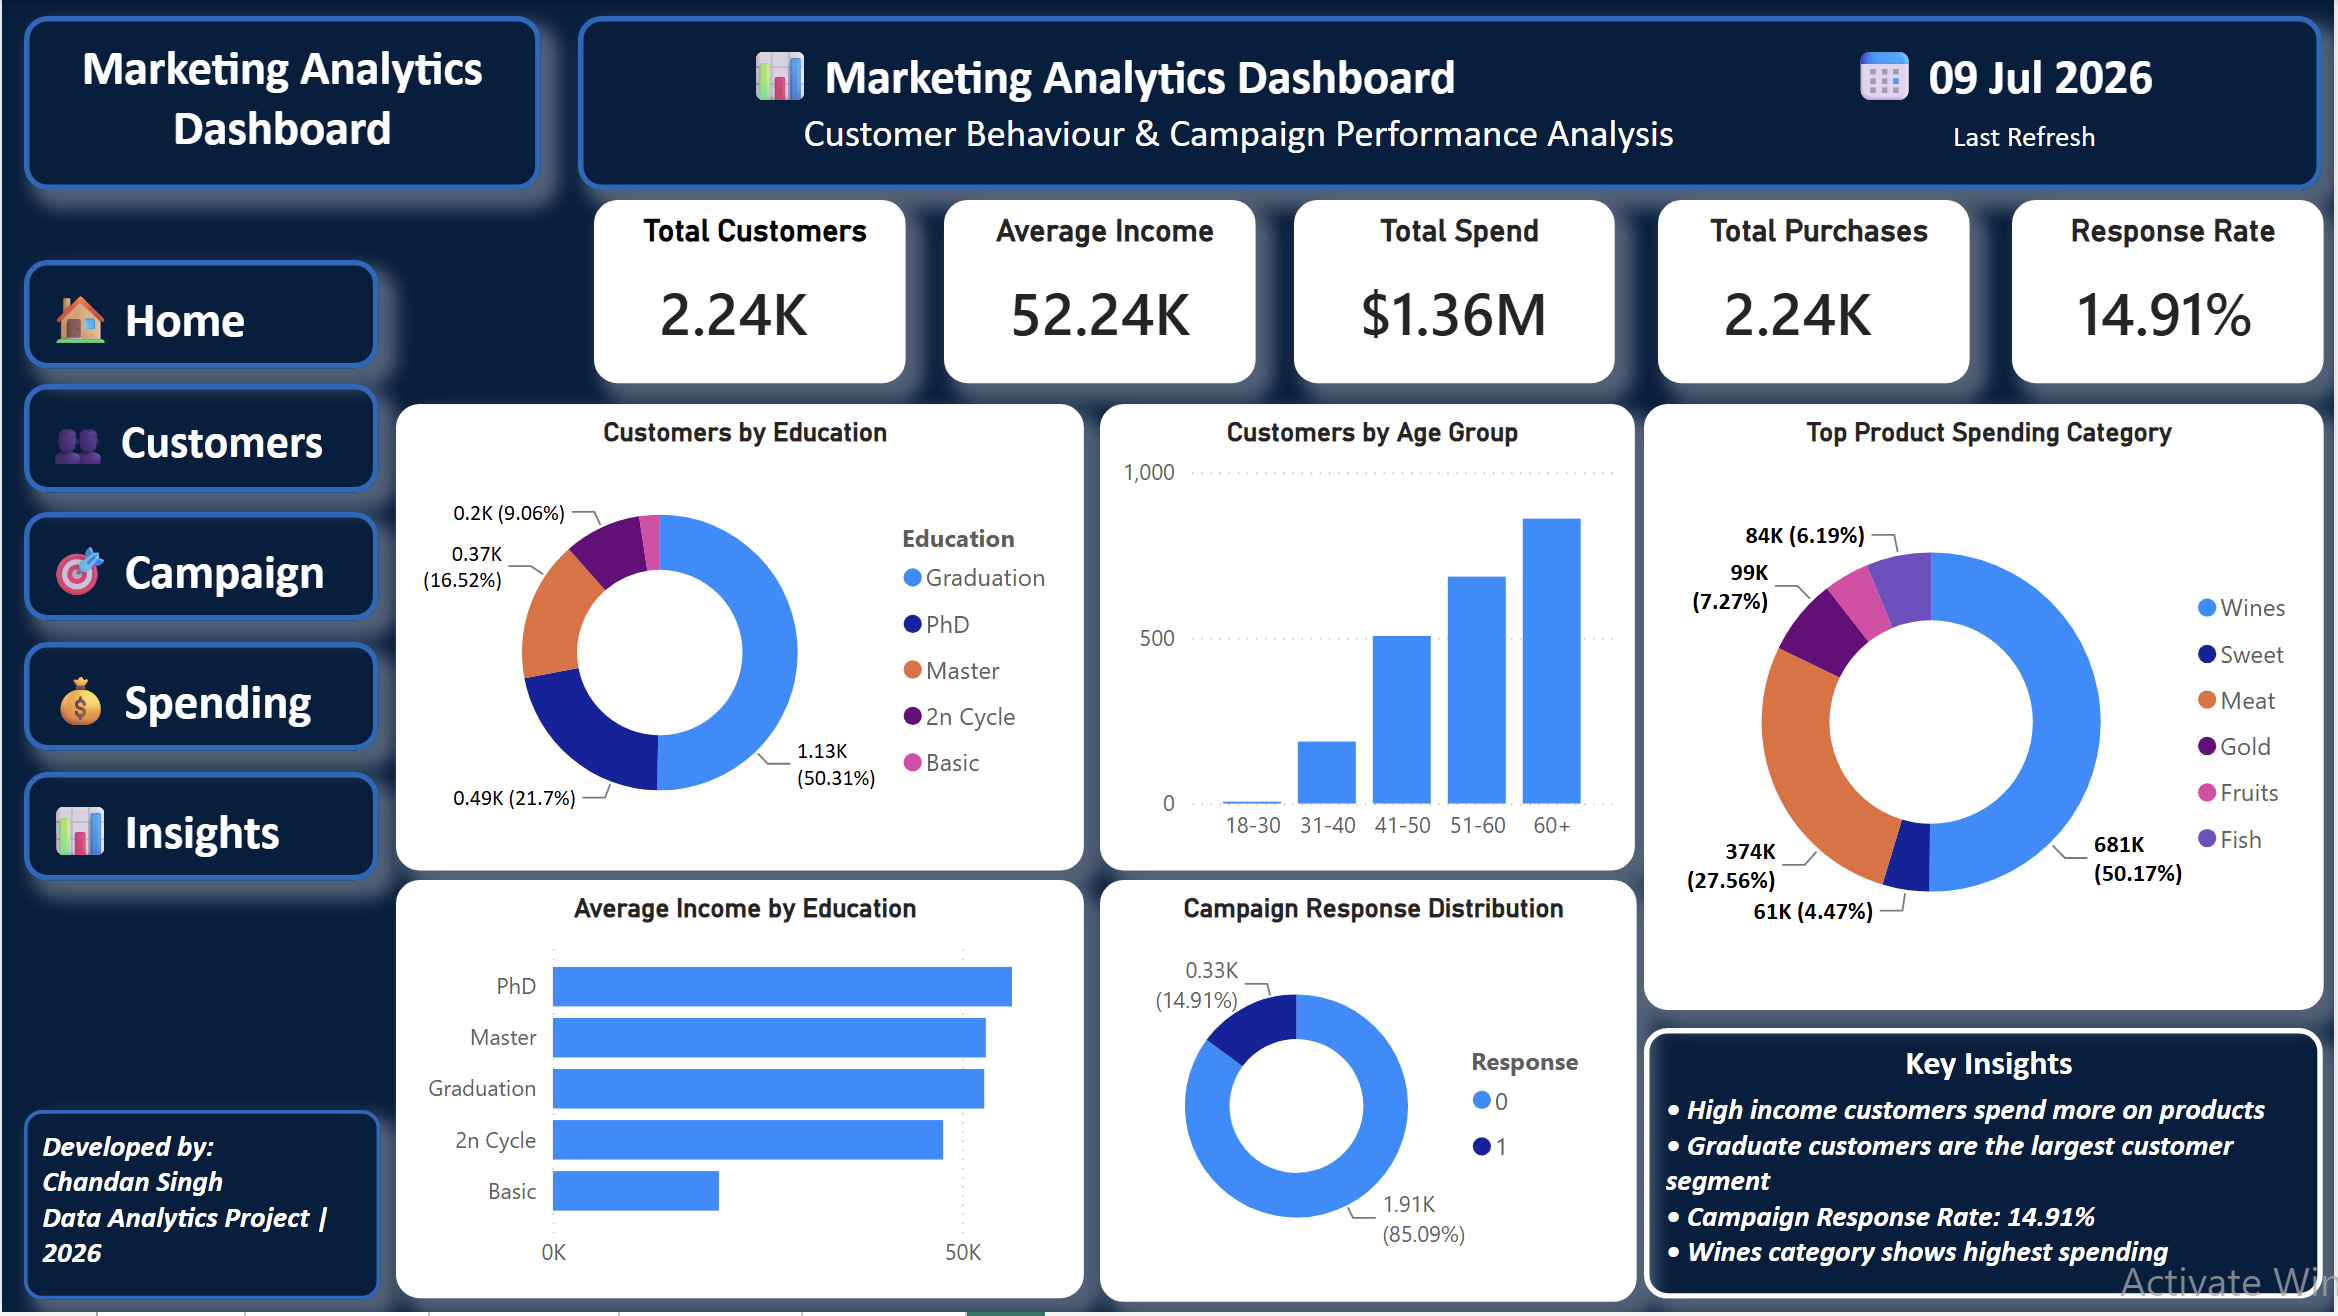

The dashboard page shown, as its layout file describes it:
{"tool":"powerbi","page":{"name":"Home","canvas":[1280,720],"ordinal":0},"visuals":[{"type":"cardVisual","title":"Total Customers","fields":{"Data":["CountNonNull(marketing_campaign.Dt_Customer)"]},"box":[324.3,110.2,171,100.3],"z":0},{"type":"cardVisual","title":"Average Income","fields":{"Data":["Avg(marketing_campaign.Income)"]},"box":[517.4,110.2,171,100.3],"z":1000},{"type":"cardVisual","title":"Total Spend","fields":{"Data":["Sum(marketing_campaign.Total_Spend)"]},"box":[709.3,110.2,176,100.3],"z":2000},{"type":"cardVisual","title":"Total Purchases","fields":{"Data":["CountNonNull(marketing_campaign.Total_Purchases)"]},"box":[908.6,110.2,171,100.3],"z":3000},{"type":"cardVisual","title":"Response Rate","fields":{"Data":["marketing_campaign.Response Rate %"]},"box":[1103,110.2,171,100.3],"z":4000},{"type":"donutChart","title":"Campaign Response Distribution","fields":{"Category":["marketing_campaign.Response"],"Y":["CountNonNull(marketing_campaign.ID)"]},"box":[602.9,482.8,294.6,231.5],"z":5000},{"type":"donutChart","title":"Customers by Education","fields":{"Category":["marketing_campaign.Education"],"Y":["CountNonNull(marketing_campaign.ID)"]},"box":[216.6,221.6,377.6,256.2],"z":6000},{"type":"donutChart","title":"Top Product Spending Category","fields":{"Y":["Sum(marketing_campaign.MntWines)","Sum(marketing_campaign.MntSweetProducts)","Sum(marketing_campaign.MntMeatProducts)","Sum(marketing_campaign.MntGoldProds)","Sum(marketing_campaign.MntFruits)","Sum(marketing_campaign.MntFishProducts)"]},"box":[901.2,221.6,378.8,333],"z":7000},{"type":"clusteredBarChart","title":"Average Income by Education","fields":{"Category":["marketing_campaign.Education"],"Y":["Avg(marketing_campaign.Income)"]},"box":[216.6,482.8,377.6,230.3],"z":8000},{"type":"columnChart","title":"Customers by Age Group","fields":{"Y":["CountNonNull(marketing_campaign.ID)"],"Category":["marketing_campaign.Age Group"]},"box":[602.9,221.6,293.4,256.2],"z":9000},{"type":"textbox","box":[315.7,8.7,956.9,95.3],"z":10000},{"type":"textbox","title":"Key Insights","box":[901.2,564.5,372.6,148.5],"z":11000},{"type":"shape","box":[0,142.4,215.4,578.1],"z":12000},{"type":"textbox","box":[12.4,8.7,283.5,95.3],"z":13000},{"type":"actionButton","box":[12.4,142.4,194.4,59.4],"z":14000},{"type":"actionButton","box":[12.4,210.4,194.4,59.4],"z":15000},{"type":"actionButton","box":[12.4,281,194.4,59.4],"z":16000},{"type":"actionButton","box":[12.4,352.8,194.4,59.4],"z":17000},{"type":"actionButton","box":[12.4,423.4,194.4,59.4],"z":18000},{"type":"textbox","box":[12.4,609.1,195.6,104],"z":19000}]}

Visuals, with their boxes in screenshot pixels (x1, y1, x2, y2), scaled from the page's 1280x720 canvas onto the 2338x1316 screenshot:
"Total Customers" cardVisual: <region>592, 201, 905, 385</region>
"Average Income" cardVisual: <region>945, 201, 1257, 385</region>
"Total Spend" cardVisual: <region>1296, 201, 1617, 385</region>
"Total Purchases" cardVisual: <region>1660, 201, 1972, 385</region>
"Response Rate" cardVisual: <region>2015, 201, 2327, 385</region>
"Campaign Response Distribution" donutChart: <region>1101, 882, 1639, 1306</region>
"Customers by Education" donutChart: <region>396, 405, 1085, 873</region>
"Top Product Spending Category" donutChart: <region>1646, 405, 2337, 1014</region>
"Average Income by Education" clusteredBarChart: <region>396, 882, 1085, 1303</region>
"Customers by Age Group" columnChart: <region>1101, 405, 1637, 873</region>
textbox: <region>577, 16, 2324, 190</region>
"Key Insights" textbox: <region>1646, 1032, 2327, 1303</region>
shape: <region>0, 260, 393, 1315</region>
textbox: <region>23, 16, 540, 190</region>
actionButton: <region>23, 260, 378, 369</region>
actionButton: <region>23, 385, 378, 493</region>
actionButton: <region>23, 514, 378, 622</region>
actionButton: <region>23, 645, 378, 753</region>
actionButton: <region>23, 774, 378, 882</region>
textbox: <region>23, 1113, 380, 1303</region>
